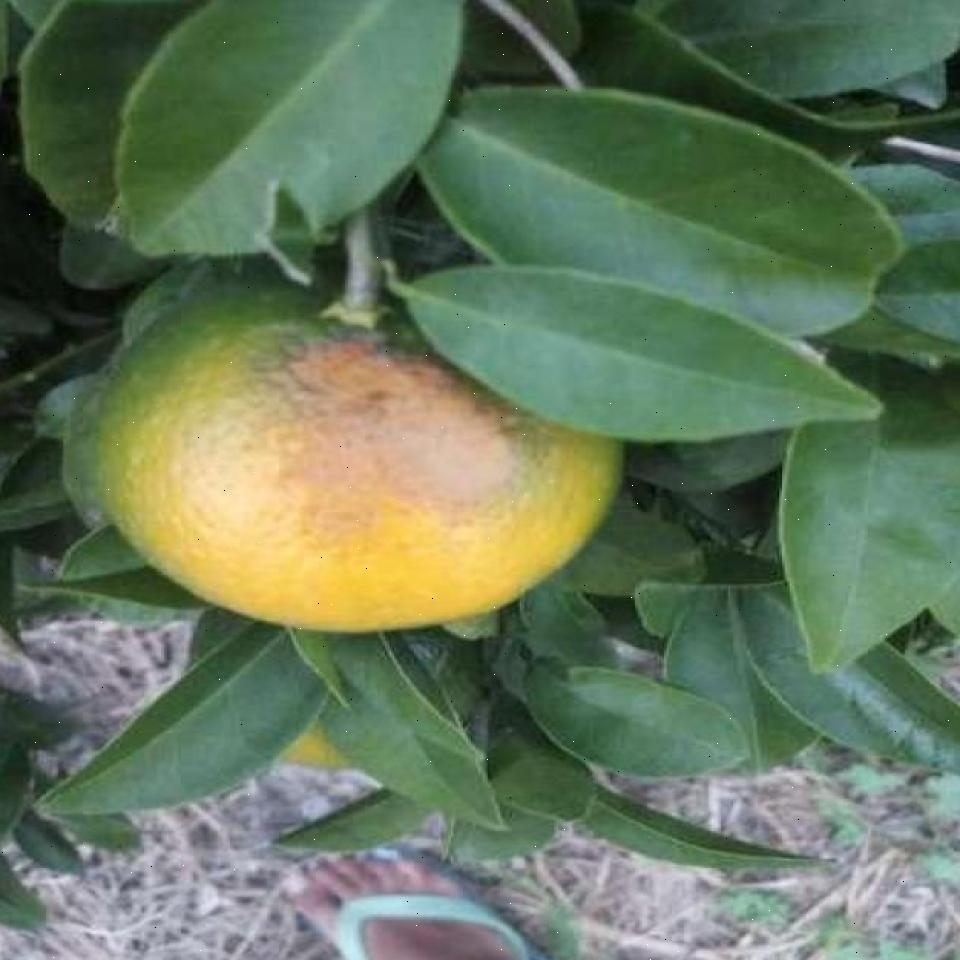Sunscald: (252, 330, 610, 515)
